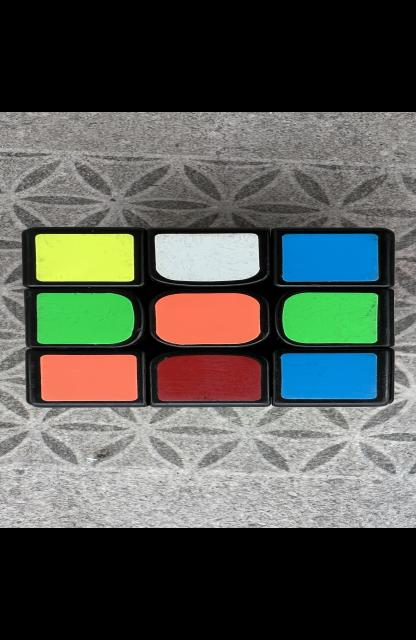Blue: (281, 234, 378, 282), (280, 353, 376, 400)
Green: (281, 292, 378, 344), (35, 293, 133, 344)
Orange: (153, 293, 260, 344), (40, 355, 136, 401)
Red: (156, 355, 260, 401)
White: (153, 233, 258, 282)
Yellow: (35, 234, 133, 282)
